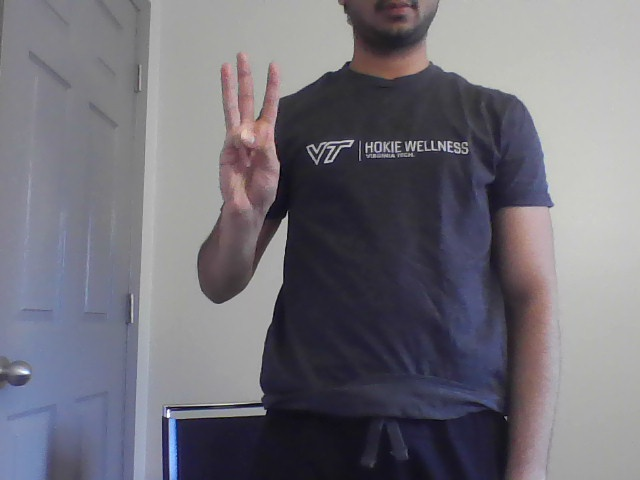three: (214, 47, 285, 210)
